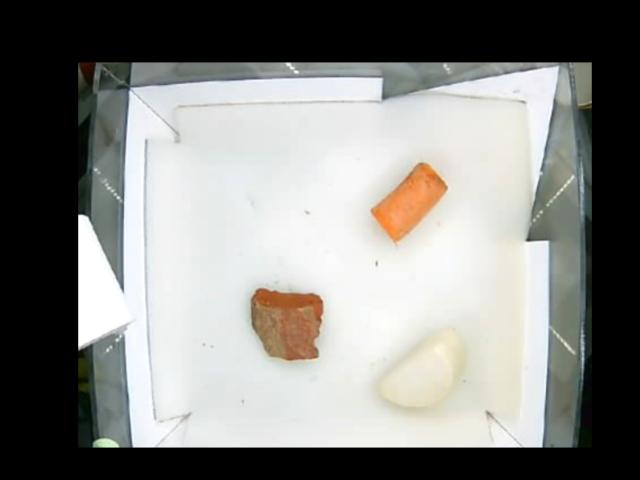Brisk: (249, 287, 323, 360)
Carrot: (369, 159, 451, 243)
Mooli: (372, 323, 466, 409)
